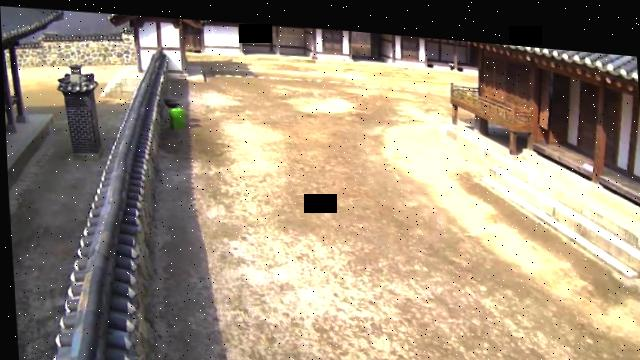bag: (167, 103, 186, 128)
